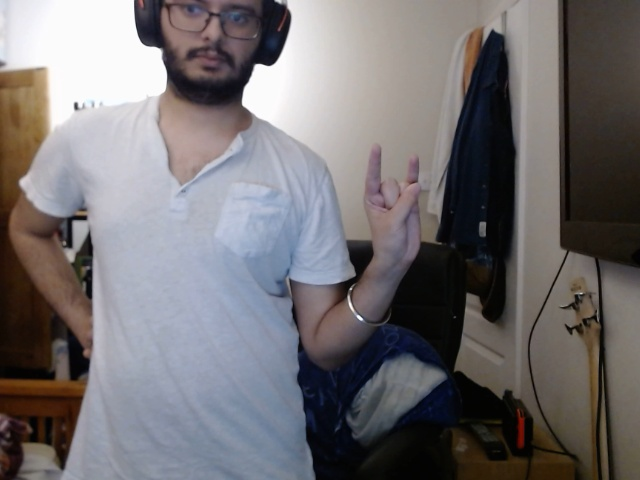Rock on: (352, 143, 436, 284)
